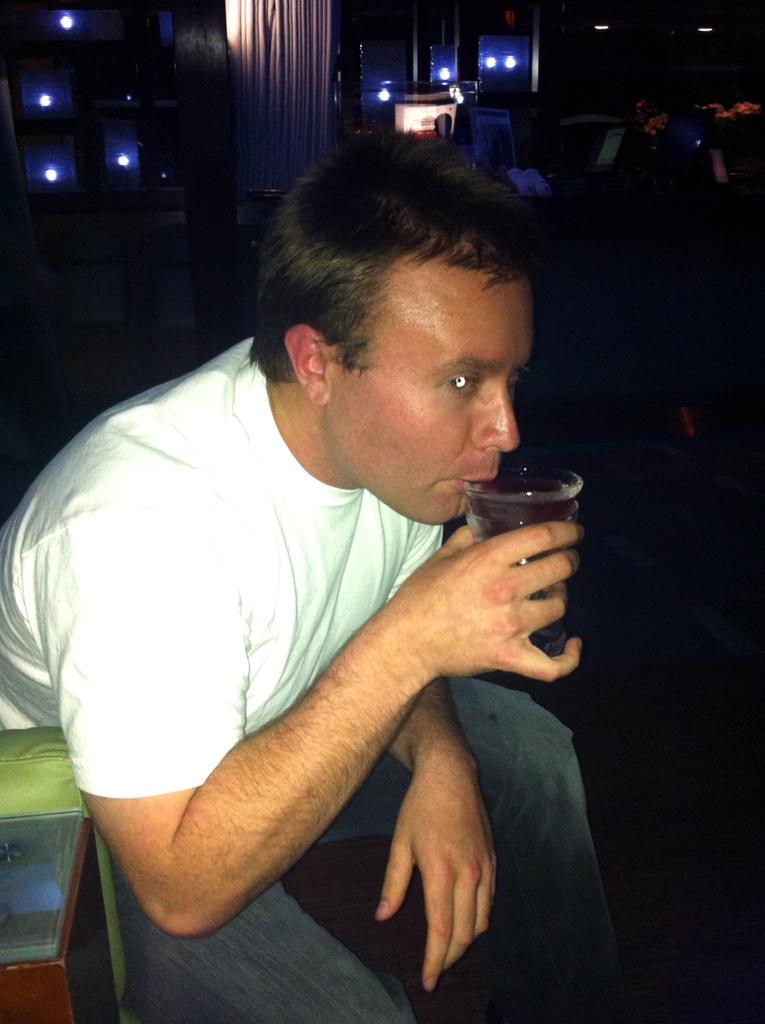Sem Máscara: (315, 256, 530, 522)
